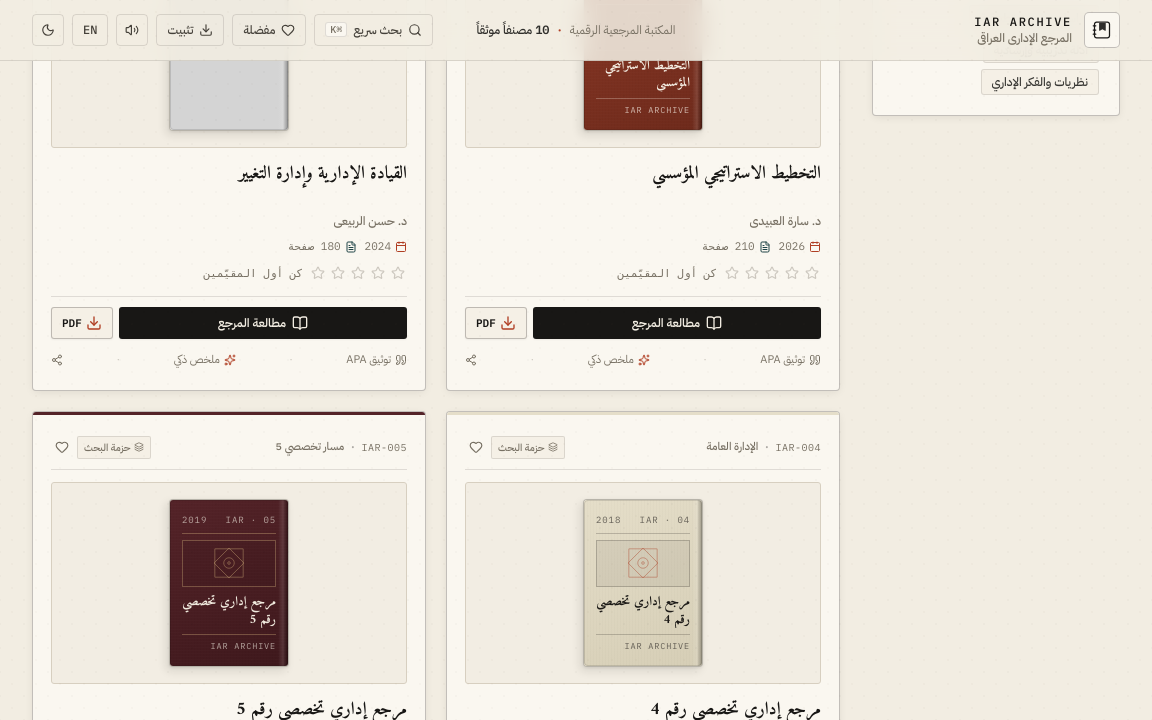
Test case: Phase 2.3A & 2.3B — Library UI, Reference Experience & Interactive Modals › opens 3-Minute Summary Dialog with key points, audience, copy summary/APA, and navigates to full reference page
(page scrolled)
Clicking "ملخص 3 دقائق" on Book 2 opens SummaryDialog (distinct from BookDetailsView)
Step 1. Click the button with test id "book-summary-btn-2" → [619, 360], box [588,349,650,372]
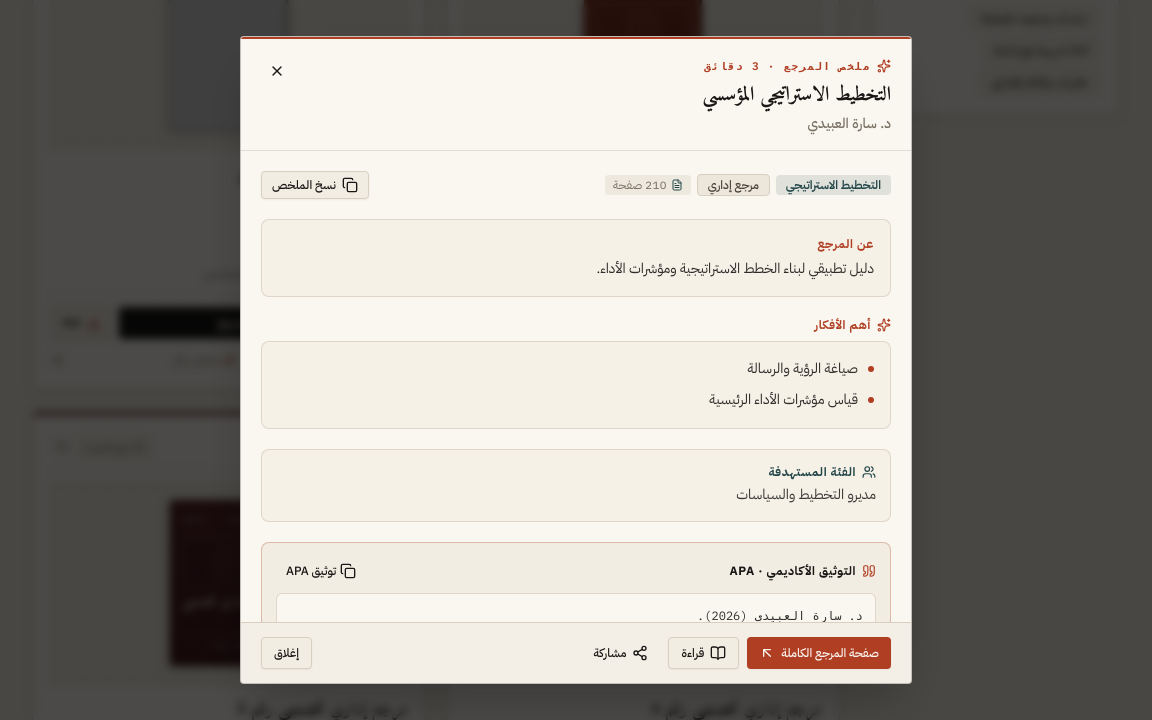
Check: the dialog with test id "summary-dialog" is shown
Check: the heading with test id "summary-dialog-title" reads "التخطيط الاستراتيجي المؤسسي", box [702,78,891,113]
Check: the text with test id "summary-dialog-description" shows "دليل تطبيقي لبناء الخطط الاستراتيجية", box [596,258,874,279]
Copy summary text
Step 2. Click the button with test id "summary-copy-summary-btn" → [315, 185], box [261,171,369,199]
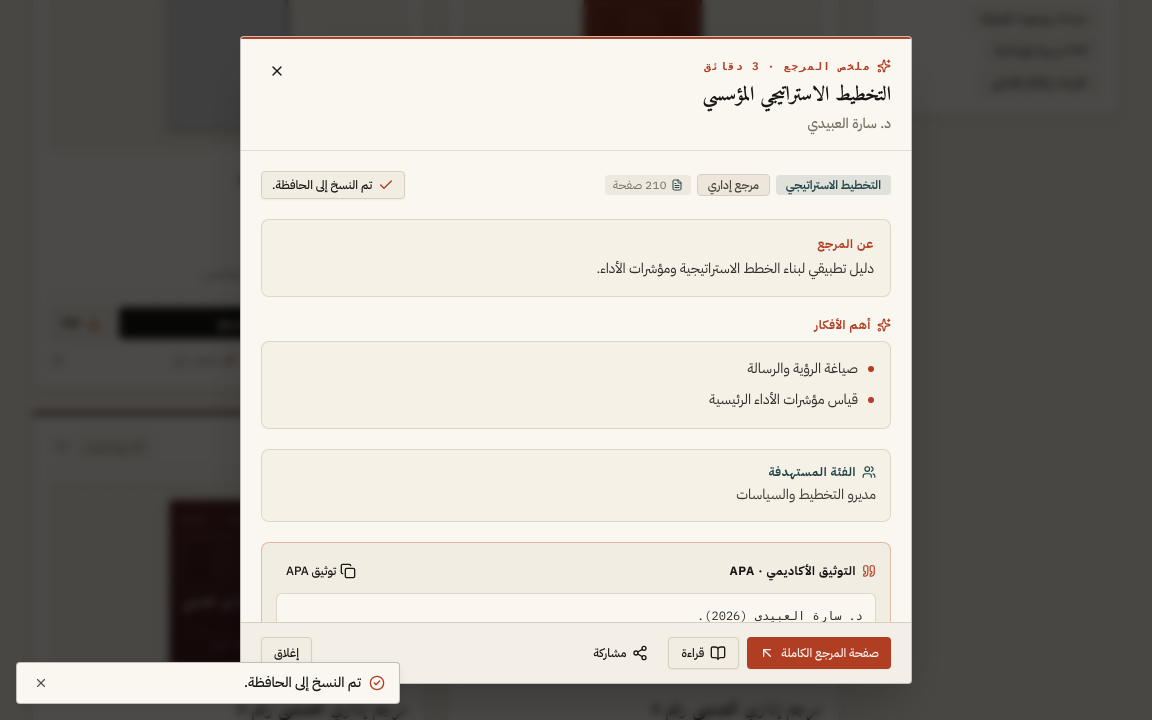
Copy APA citation from summary modal
Step 3. Click the button with test id "summary-copy-apa-btn" → [321, 571], box [276,557,366,585]
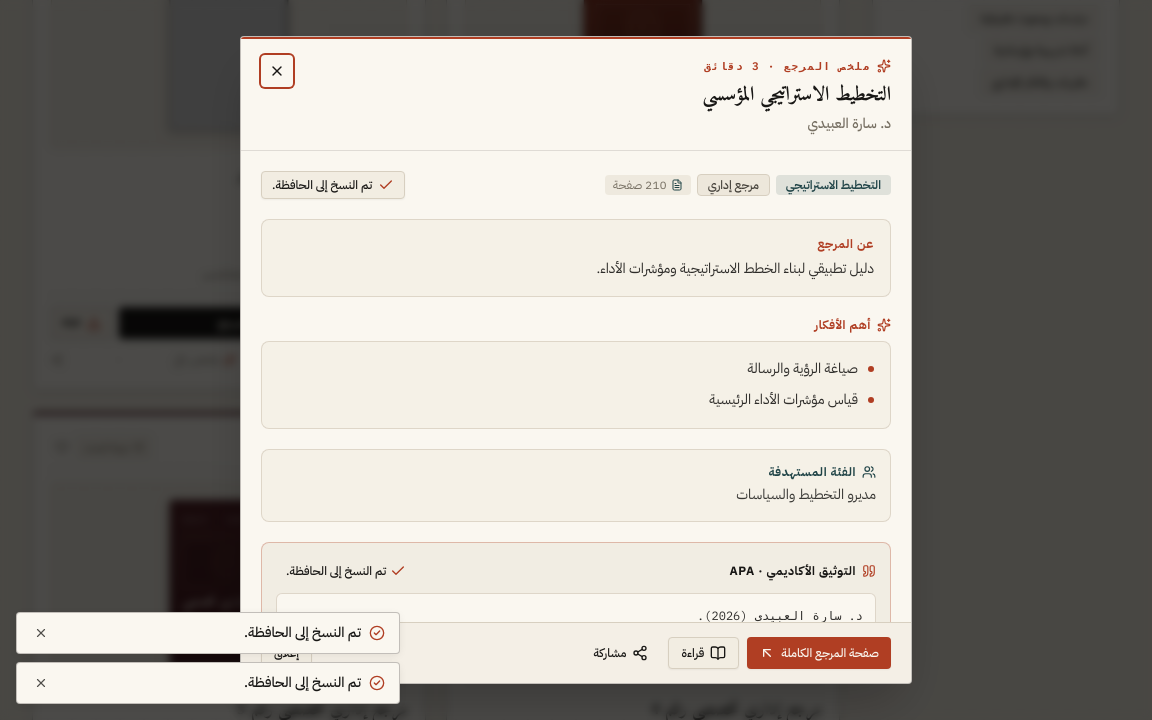
Navigate from SummaryDialog to full BookDetailsView
Step 4. Click the button with test id "summary-open-details-btn" → [819, 653], box [747,637,891,669]
(page scrolled)
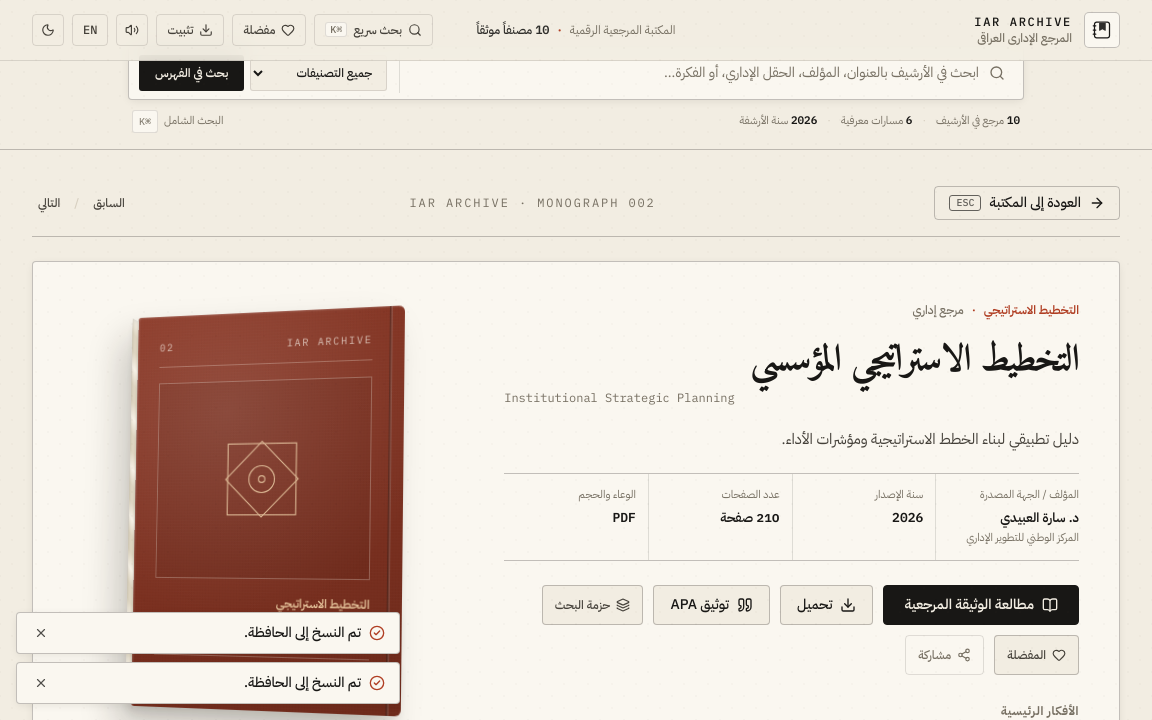
Check: the heading with test id "single-book-title" reads "التخطيط الاستراتيجي المؤسسي", box [750,328,1079,394]
Check: the dialog with test id "summary-dialog" is gone
